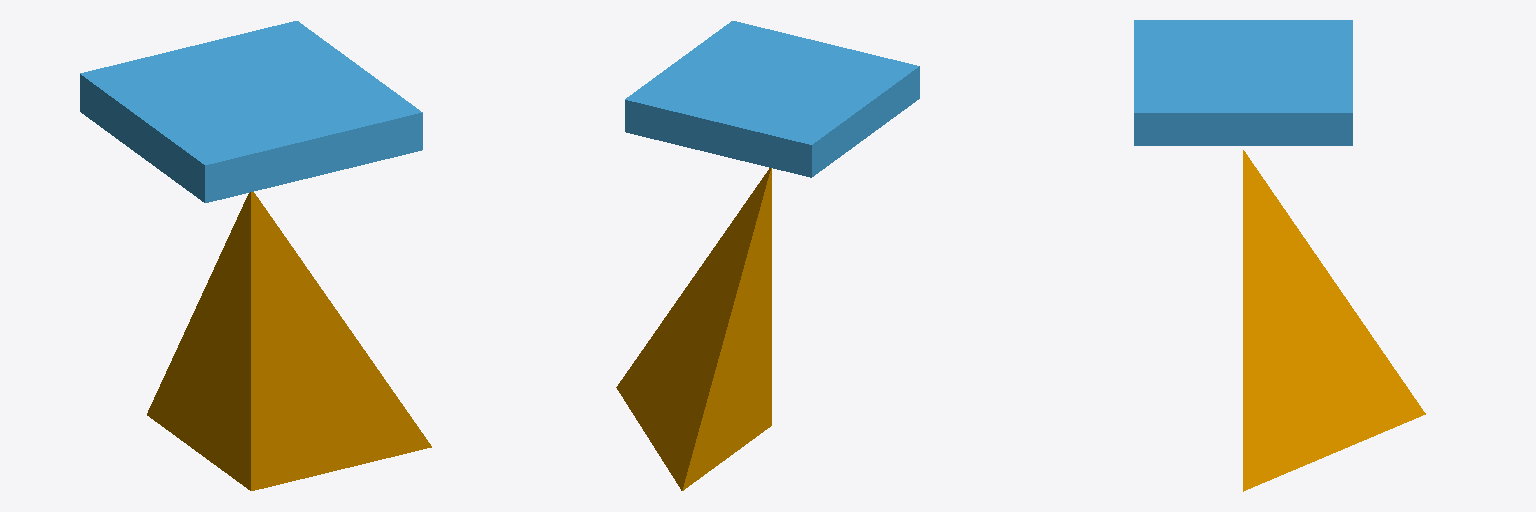
robot.urdf — cup_with_lid:
<?xml version="1.0"?>
<robot name="cup_with_lid">
  <link name="cup_body">
    <visual>
      <geometry><mesh filename="assets/cup.obj"/></geometry>
    </visual>
  </link>
  <link name="cup_lid">
    <visual>
      <geometry><box size="0.06 0.06 0.01"/></geometry>
    </visual>
  </link>
  <joint name="cup_lid_joint" type="revolute">
    <parent link="cup_body"/>
    <child link="cup_lid"/>
    <origin xyz="0 0 0.1"/>
    <axis xyz="0 1 0"/>
    <limit lower="0" upper="1.5" effort="1" velocity="1"/>
  </joint>
</robot>

--- Facts derived from the render (not from the file) ---
The picture shows the robot from 3 angles, left to right: view 1: azimuth 30°, elevation 25°; view 2: azimuth 150°, elevation 25°; view 3: azimuth 270°, elevation 25°; orthographic projection.
Robot: cup_with_lid — 2 links, 1 joints (1 revolute); root link cup_body; default pose: all joints at 0.
Visible links, largest first — view 1: cup_body, cup_lid; view 2: cup_lid, cup_body; view 3: cup_body, cup_lid.
Link boxes in pixels (<box>): cup_body: <box>147,192,431,490</box>; cup_lid: <box>80,21,422,202</box>; cup_lid: <box>625,21,919,177</box>; cup_body: <box>616,168,771,490</box>; cup_body: <box>1243,150,1425,491</box>; cup_lid: <box>1134,20,1352,145</box>.
Bounding box of the posed robot: 0.08 × 0.08 × 0.105 m (x, y, z).
1 mesh visuals loaded from 1 distinct referenced files (1 OBJ).
